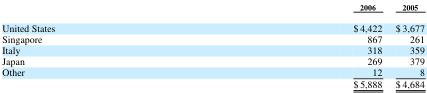table: (1, 1, 423, 89)
table column: (1, 1, 203, 89), (203, 1, 388, 89), (388, 1, 423, 89)
table column header: (1, 1, 423, 16)
table row: (1, 16, 423, 33), (1, 1, 423, 16), (1, 65, 423, 77), (1, 77, 423, 89), (1, 43, 423, 54), (1, 54, 423, 65), (1, 33, 423, 43)
